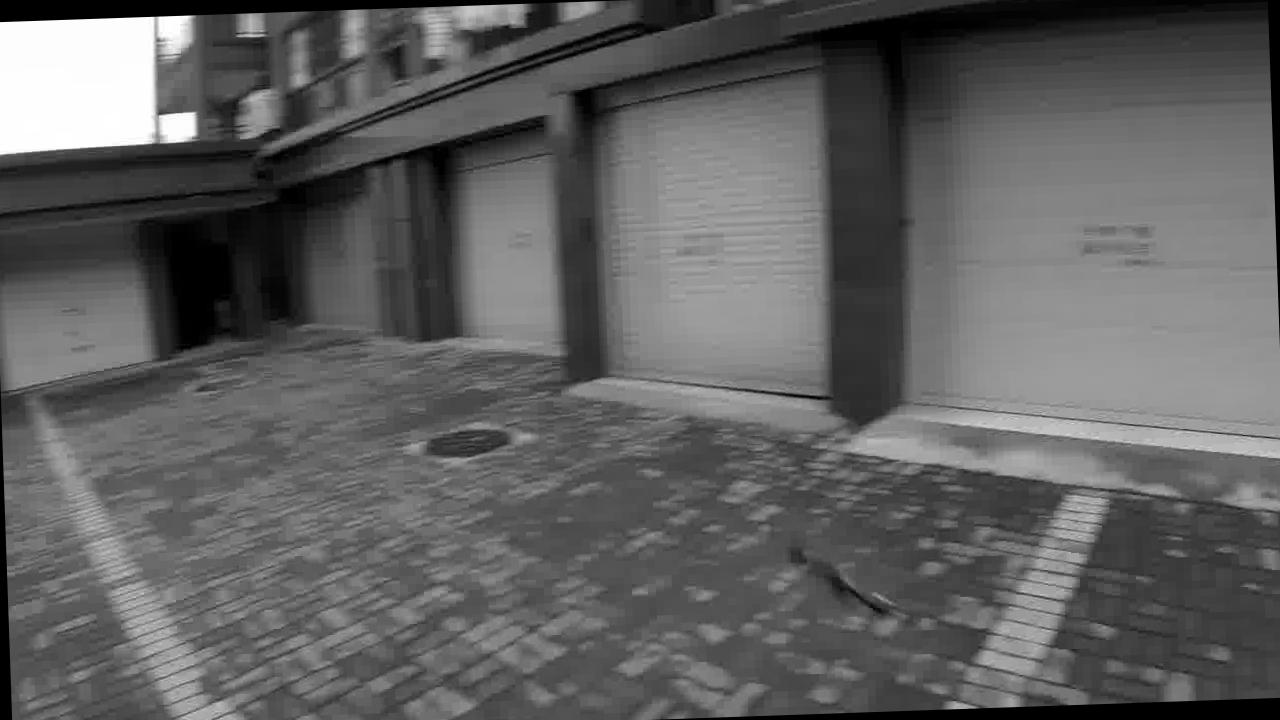drone: (784, 528, 900, 623)
